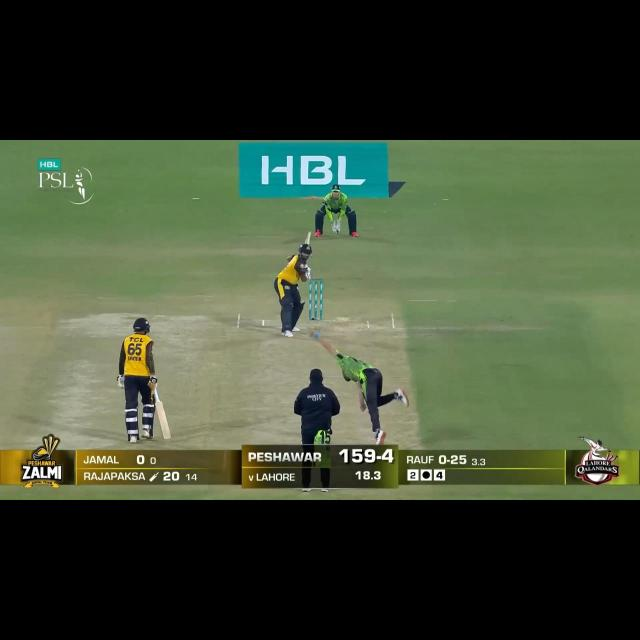bat: (154, 402, 174, 440), (303, 232, 312, 246)
toe: (160, 431, 173, 440), (305, 231, 312, 239)
